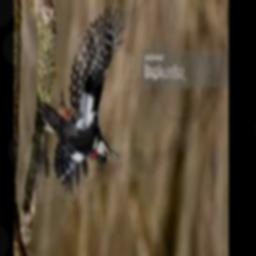Woodpecker: (38, 0, 126, 196)
